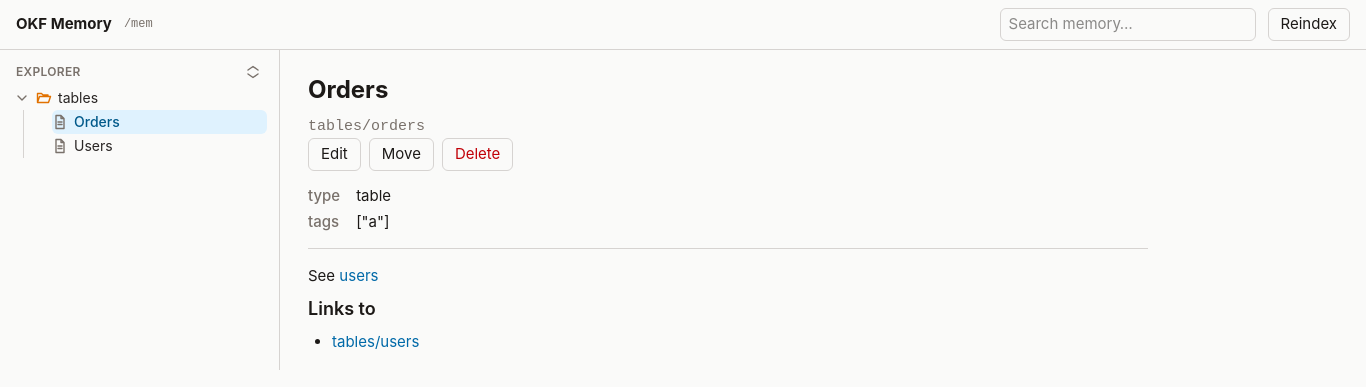
tree view › collapses everything
Expected: the link "Orders" is shown, 52,112 -> 120,130
Click the button named "Collapse all": (253, 72) 243,62 -> 263,82
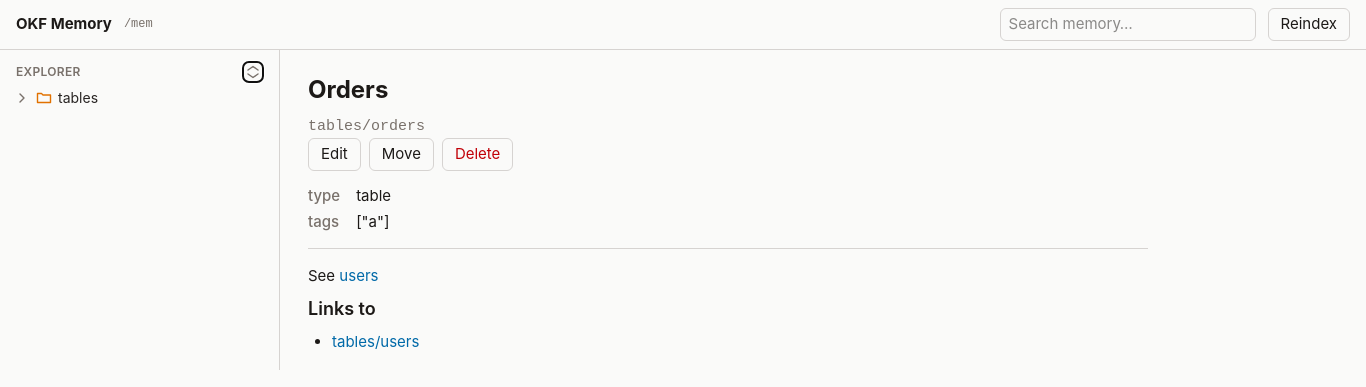
Result: the button named "Toggle tables" is collapsed at 12,88 -> 32,108
